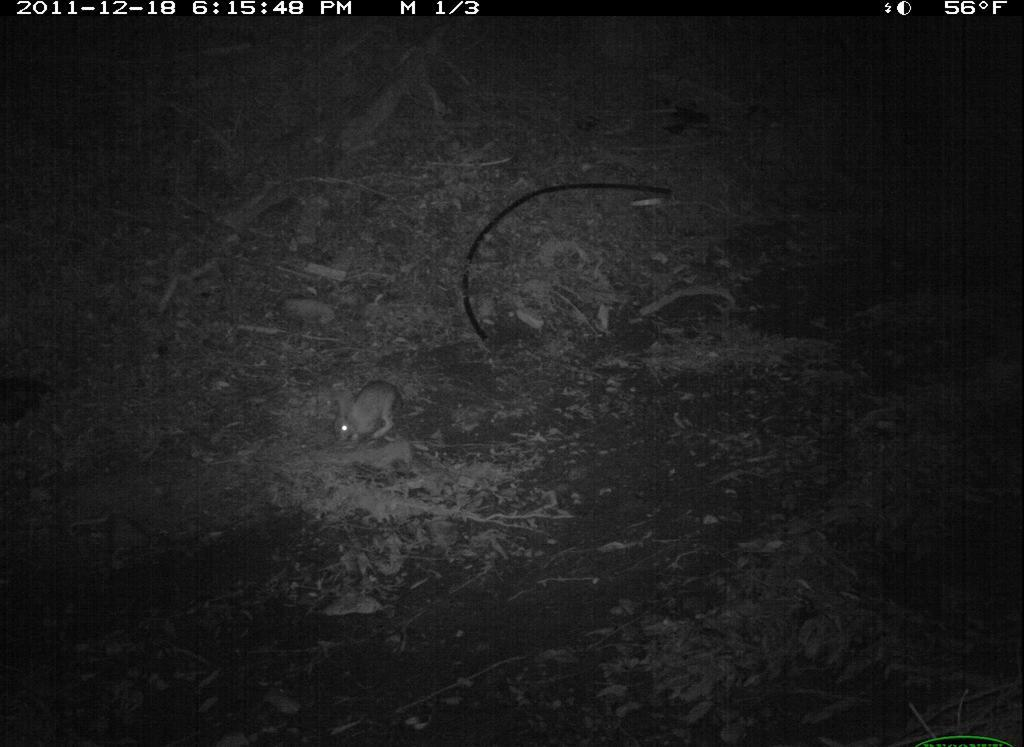rabbit: (321, 353, 424, 475)
